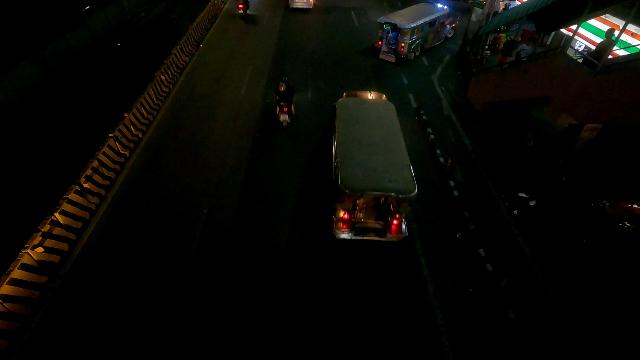jeepney: (330, 86, 419, 245), (374, 0, 458, 63)
motorcycle: (273, 77, 296, 127)
